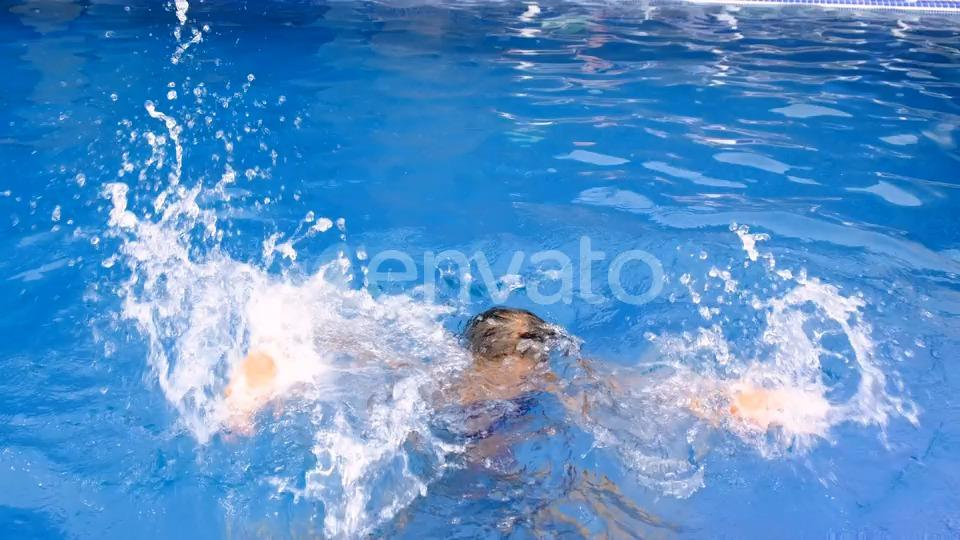Drowning: (173, 172, 795, 482)
